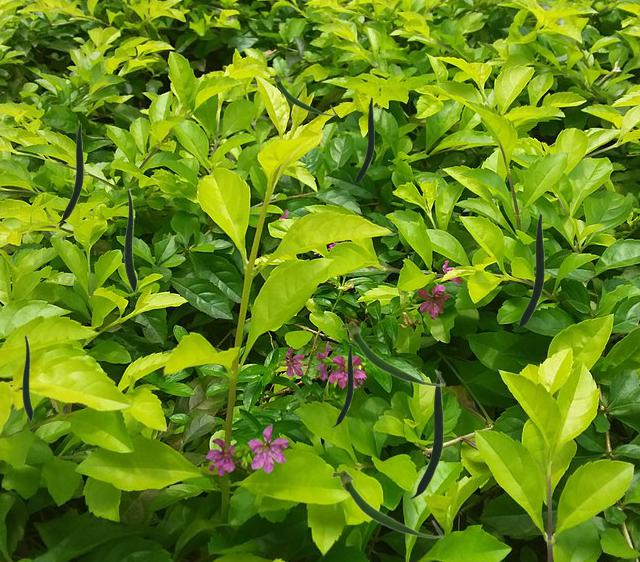french_bean: (330, 468, 443, 538), (339, 320, 445, 386), (408, 371, 442, 498), (512, 213, 543, 329), (268, 73, 336, 115), (57, 123, 82, 222), (351, 97, 373, 184), (332, 344, 352, 426), (124, 188, 136, 292), (22, 334, 32, 421)
